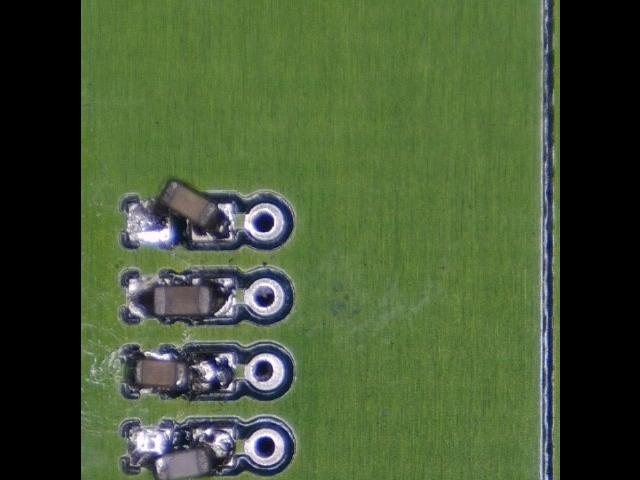Incorrect_installation: (126, 179, 234, 246), (129, 426, 235, 480), (129, 351, 237, 396)
Short_circuit: (129, 350, 237, 395)
